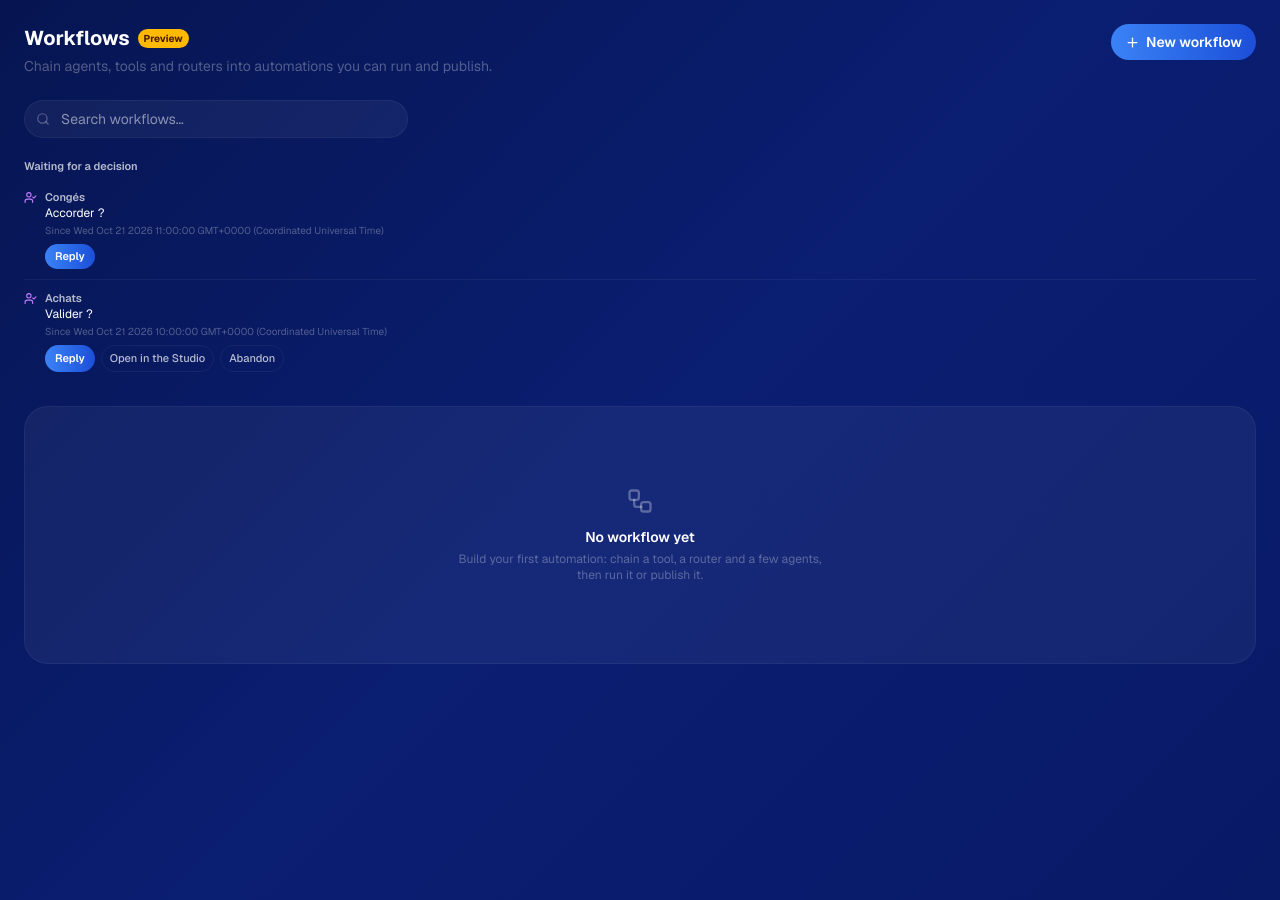
Scenario: WorkflowsPage - answering a decision › an assignee answers from the list, without ever loading the workflow
Click the button "Reply" below "Accorder ?" at (70,256), box [45,244,95,268]
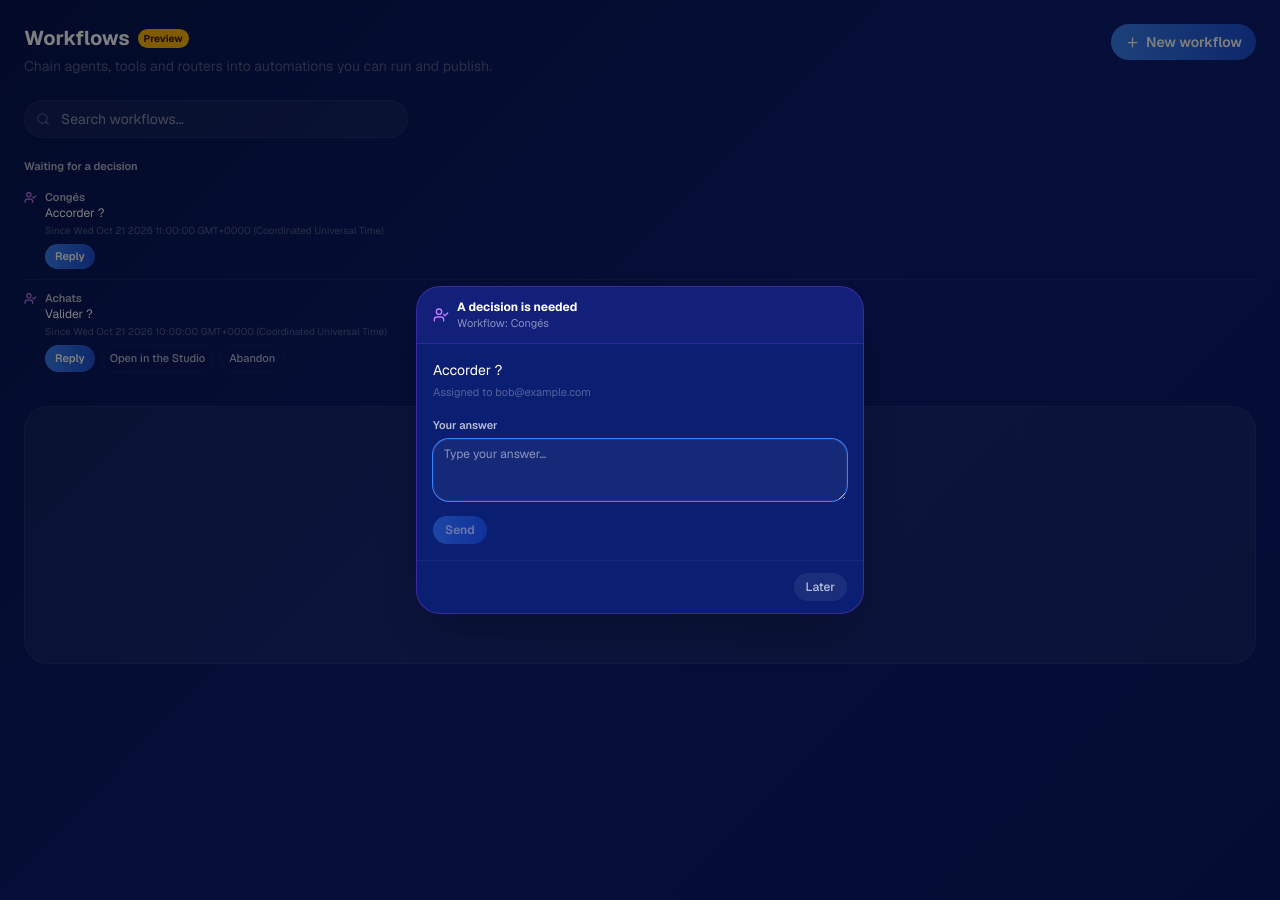
Type "oui, accordé" into the text box at (640,470), box [433,439,847,501]
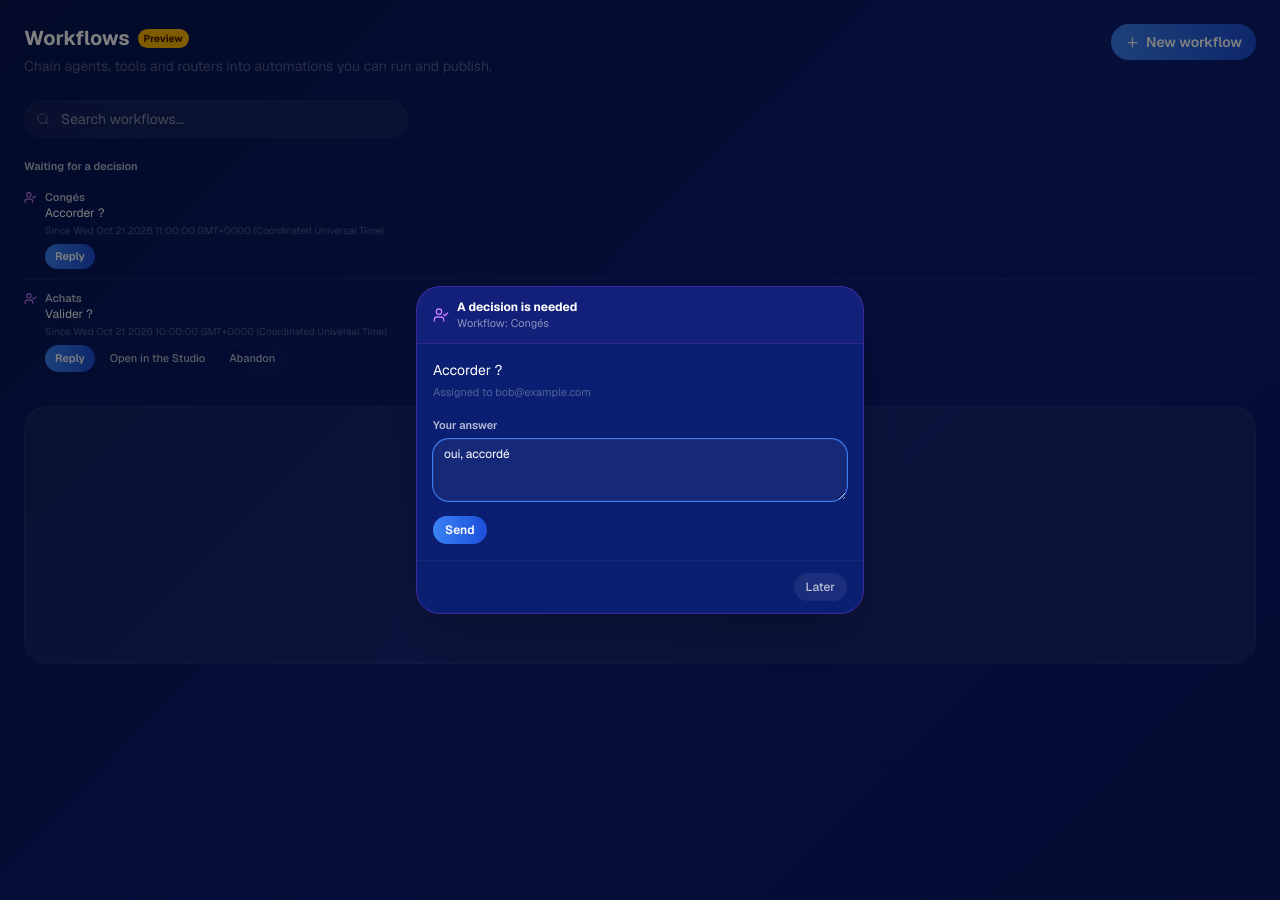
Click the button "Send" at (460,530), box [433,516,487,544]
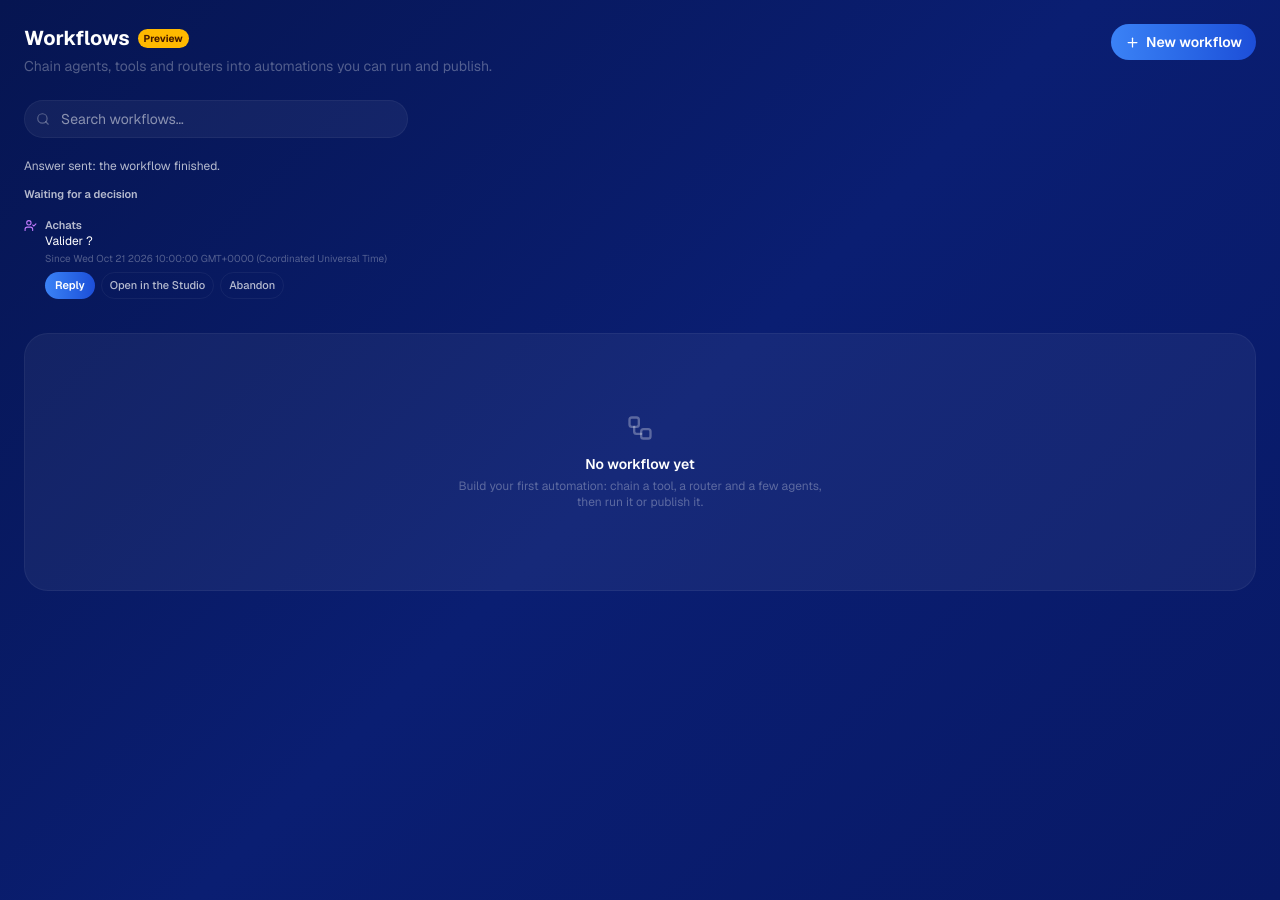
Expected: the text "Answer sent: the workflow finished." is shown, [24,158,220,174]
Expected: the dialog is gone
Expected: the text "Accorder ?" is gone
